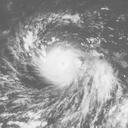cyclone: (34, 41, 81, 89)
